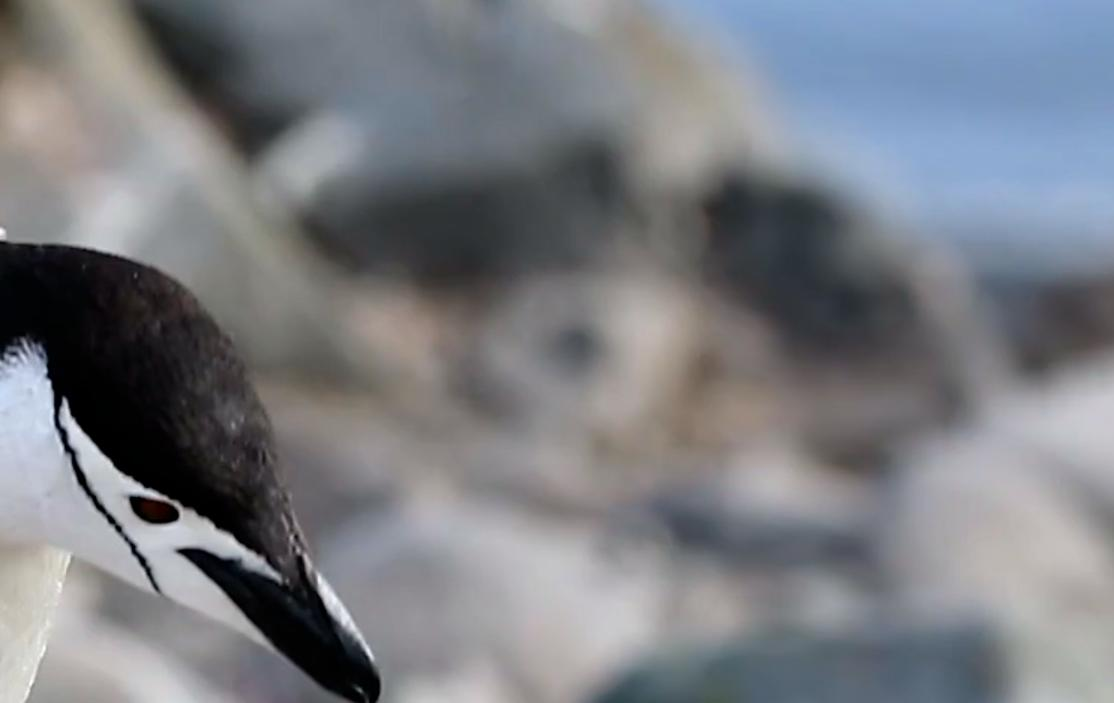Chinstrap Penguin: (0, 204, 380, 703)
